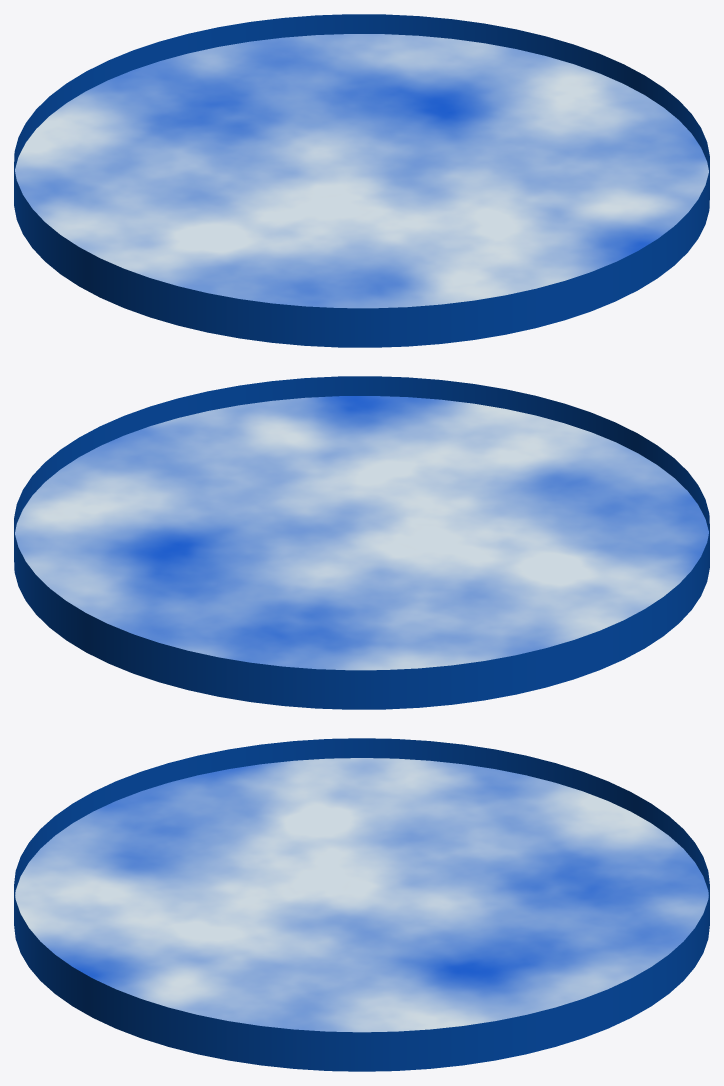
Rendered from power_lake_r2.obj.
3 views of the same model, one above another, from view 1: azimuth 30°, elevation 25°; view 2: azimuth 150°, elevation 25°; view 3: azimuth 270°, elevation 25° (orthographic).
Parts seen in each view (by area): view 1: cloud_r2; view 2: cloud_r2; view 3: cloud_r2.
Boxes of the visible parts, x1,y1,x2,y2 form: cloud_r2: (14,14,709,347); cloud_r2: (14,376,709,709); cloud_r2: (14,738,709,1071).
Bounding box in the file's own units: 4 × 0.25 × 4.
